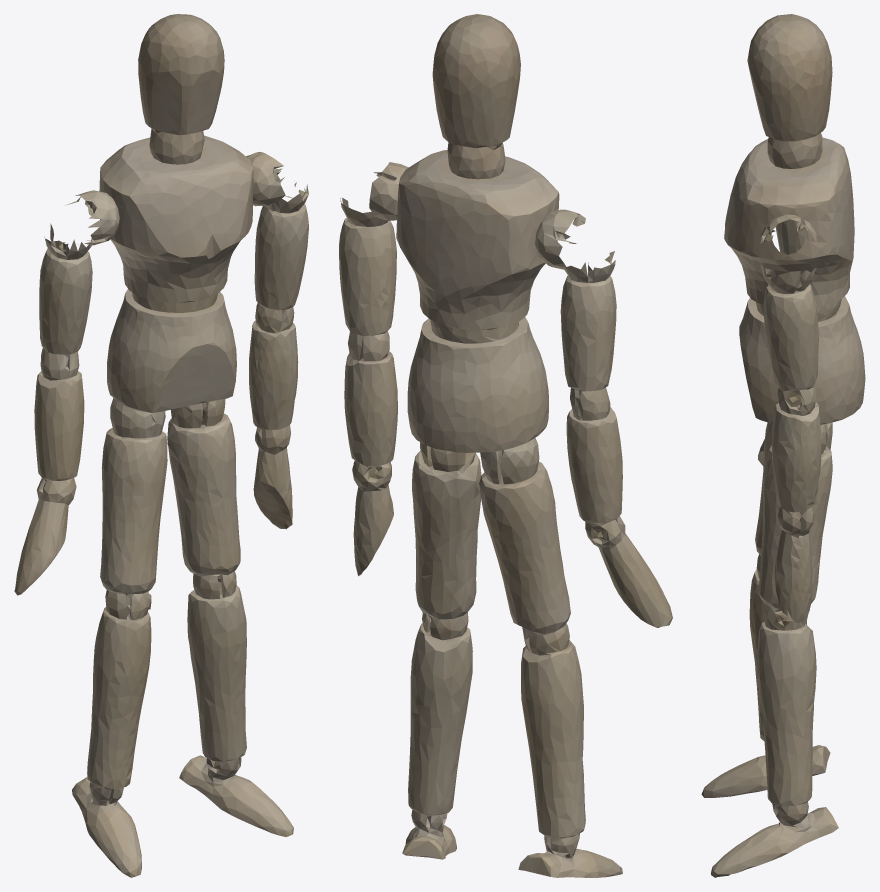
The model's file is mannequin.glb.
3 views of the same model, side by side, from view 1: azimuth 30°, elevation 25°; view 2: azimuth 150°, elevation 25°; view 3: azimuth 270°, elevation 25° (orthographic). The views are drawn at different scales.
Parts seen in each view (by area): view 1: torso, legR, legL, armL, armR, head; view 2: torso, legL, legR, armL, armR, head; view 3: torso, legR, armR, head, legL, armL.
Boxes of the visible parts, x1=… form: torso: x1=65, y1=144, x2=285, y2=495; legR: x1=170, y1=456, x2=293, y2=837; legL: x1=72, y1=471, x2=164, y2=877; armL: x1=14, y1=223, x2=92, y2=595; armR: x1=249, y1=182, x2=308, y2=529; head: x1=109, y1=14, x2=239, y2=184; torso: x1=369, y1=162, x2=585, y2=533; legL: x1=484, y1=511, x2=622, y2=877; legR: x1=402, y1=496, x2=480, y2=859; armL: x1=560, y1=251, x2=672, y2=627; armR: x1=339, y1=197, x2=397, y2=576; head: x1=408, y1=14, x2=544, y2=205; torso: x1=724, y1=146, x2=865, y2=506; legR: x1=711, y1=487, x2=838, y2=877; armR: x1=760, y1=265, x2=821, y2=622; head: x1=744, y1=14, x2=845, y2=197; legL: x1=701, y1=452, x2=830, y2=797; armL: x1=758, y1=219, x2=806, y2=465.
Size of the model in its own units: 0.6955 by 1.8 by 0.3258.
